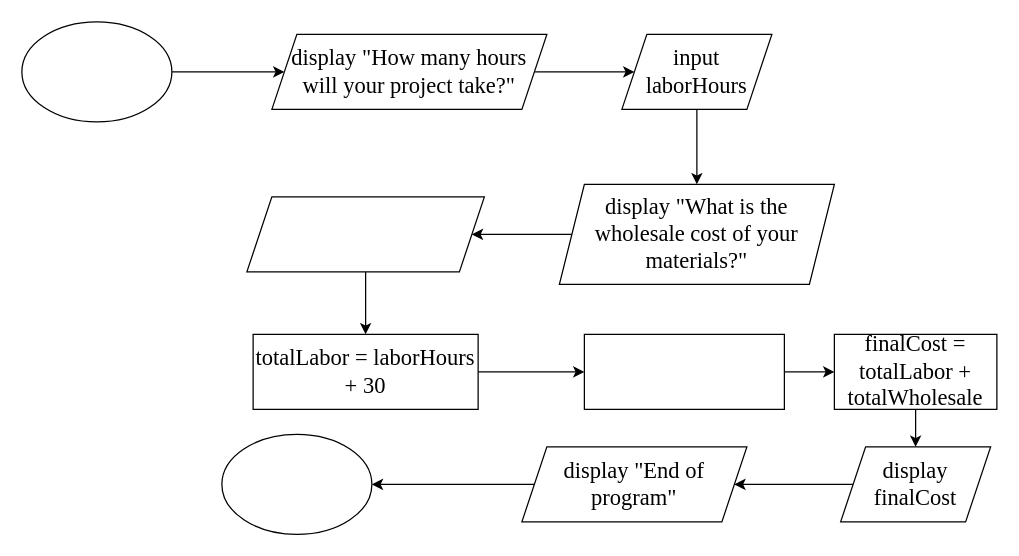
Image size: 1019x556. Some labels were removed from this diagram. The centre of each missing label's shape, as x and y in pixels:
input wholesaleCost: the point at 365,234
Start: the point at 96,71
Stop: the point at 296,483
totalWholesale = wholesaleCost * 1.20: the point at 683,371
